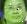without_mask: (2, 2, 27, 24)
